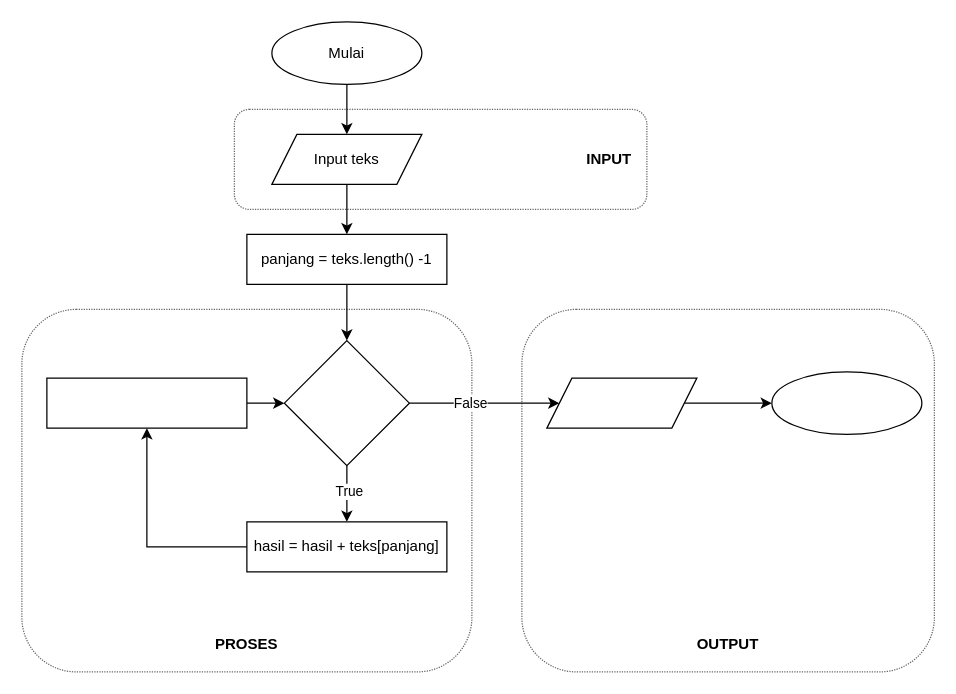
The diagram is 956 pixels wide and 694 high, and some of its shapes have lost their labels. Here are the shapes that lost their labels. From the top down, the centre of each, then its label:
At (x=146, y=402): "panjang = panjang -1".
At (x=346, y=402): "panjang >= 0".
At (x=621, y=402): "Output hasil".
At (x=846, y=402): "Selesai".
